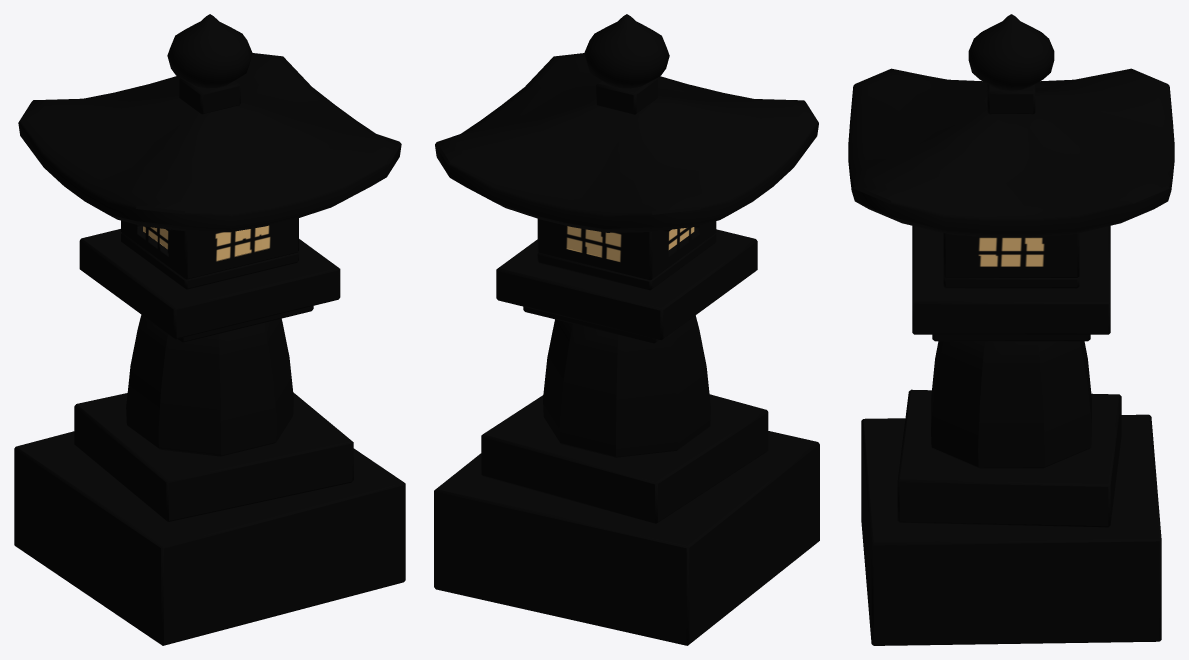
Rendered from lanternBig.glb.
3 renders of one model, left to right at view 1: azimuth 30°, elevation 25°; view 2: azimuth 150°, elevation 25°; view 3: azimuth 270°, elevation 25°, orthographic. The views are drawn at different scales.
Visible parts, largest first — view 1: low; view 2: low; view 3: low.
Boxes of the visible parts, x1,y1,x2,y2 form: low: (14,14,405,645); low: (434,14,819,645); low: (848,14,1174,645).
Bounding box in the file's own units: 1.78 × 3.41 × 1.78.
1 material, 1 textured.
